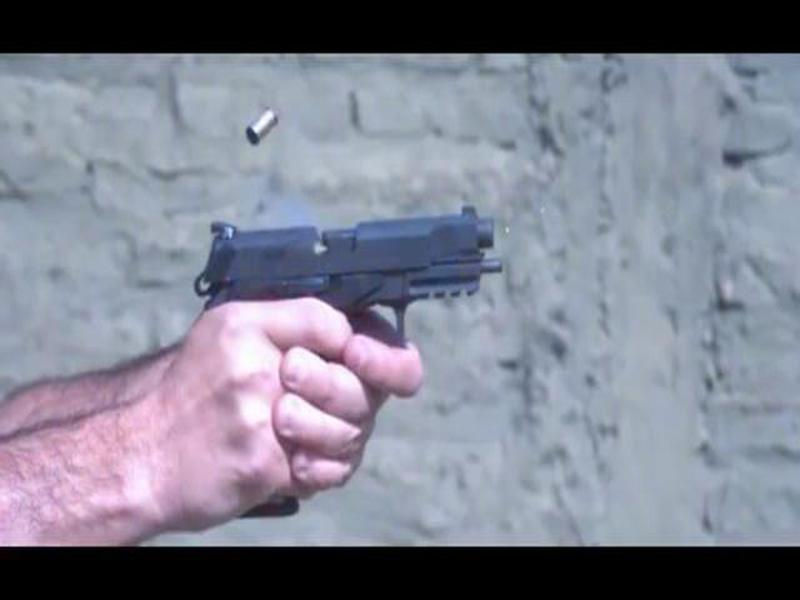Pistola: (186, 191, 522, 335)
